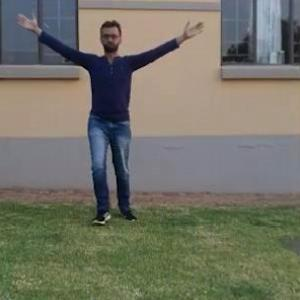takeoff: (0, 0, 221, 245)
